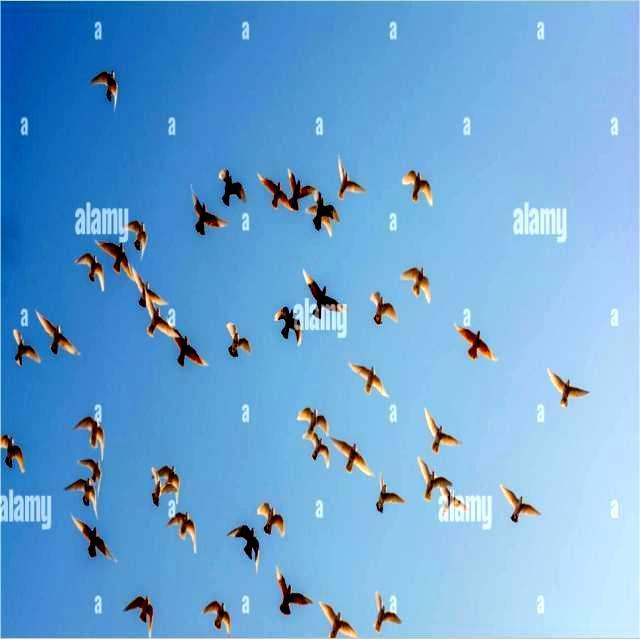bird: (70, 517, 120, 565), (501, 478, 544, 530), (38, 308, 81, 358), (273, 568, 314, 620), (332, 429, 372, 482), (423, 407, 469, 453), (548, 366, 592, 412), (304, 270, 346, 318), (194, 594, 237, 638), (174, 328, 212, 376), (400, 163, 436, 210), (164, 512, 204, 554), (186, 186, 220, 235), (230, 521, 262, 573), (456, 326, 497, 366), (72, 416, 110, 457), (398, 264, 436, 304), (62, 476, 100, 516), (68, 254, 108, 292), (88, 70, 124, 112), (125, 590, 156, 638), (346, 362, 388, 397), (142, 308, 177, 350), (7, 330, 39, 374), (272, 302, 302, 348), (322, 600, 356, 640), (134, 268, 168, 308), (100, 238, 134, 278), (368, 592, 400, 634), (217, 165, 247, 208), (376, 472, 406, 515), (369, 288, 401, 328), (256, 495, 288, 534), (338, 156, 365, 202), (258, 170, 286, 214), (224, 320, 254, 360), (0, 432, 26, 475), (302, 432, 330, 471), (286, 164, 309, 210), (124, 215, 150, 254), (419, 460, 444, 500), (298, 404, 329, 432), (79, 458, 111, 478), (144, 479, 166, 507), (306, 208, 330, 233), (313, 188, 337, 211), (162, 464, 180, 486)
